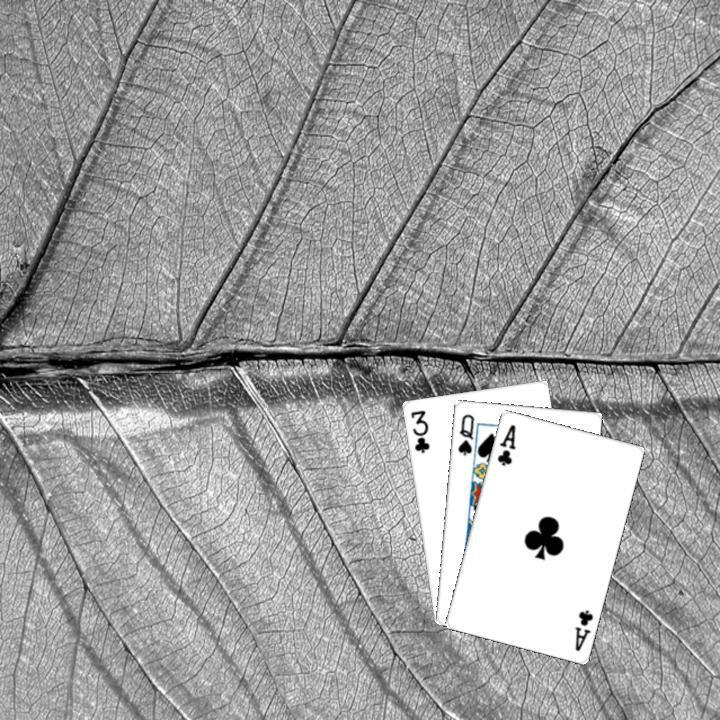3: (406, 405, 431, 455)
A: (570, 605, 595, 653), (492, 420, 517, 467)
Q: (453, 409, 475, 457)
